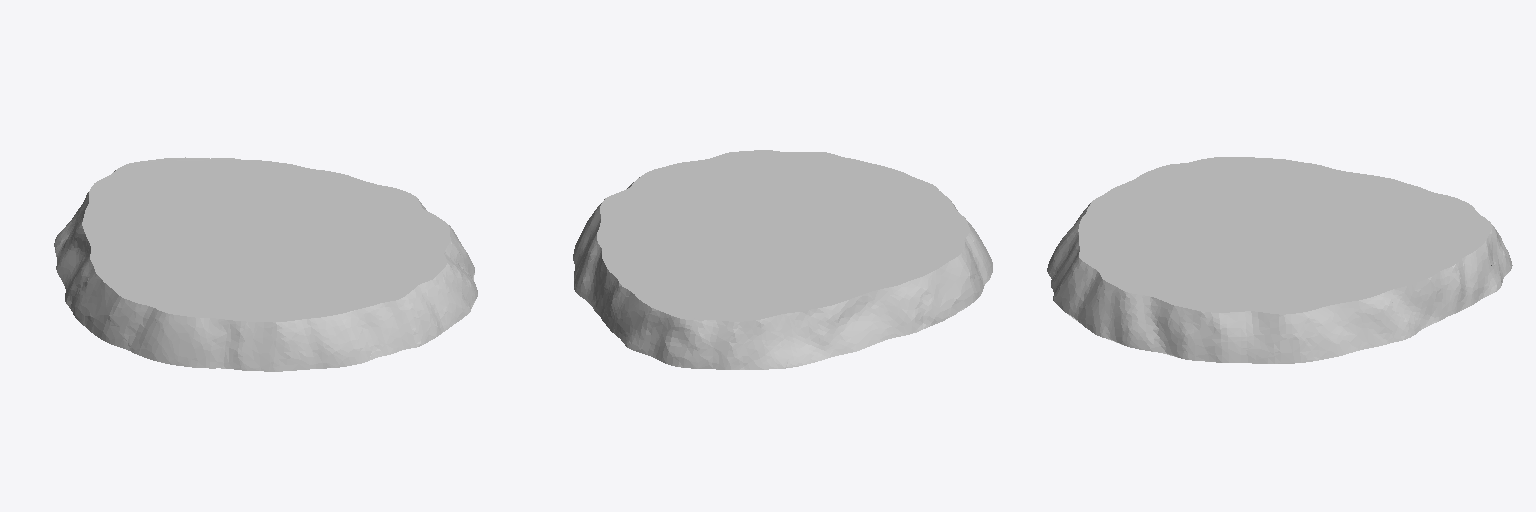
The picture shows the model from 3 angles: view 1: azimuth 30°, elevation 25°; view 2: azimuth 150°, elevation 25°; view 3: azimuth 270°, elevation 25°; orthographic projection.
Parts seen in each view (by area): view 1: low.010_Fotogrametria_MarioGomes_V01_Model_2.011; view 2: low.010_Fotogrametria_MarioGomes_V01_Model_2.011; view 3: low.010_Fotogrametria_MarioGomes_V01_Model_2.011.
Part boxes in pixels (left/top/right/bottom): low.010_Fotogrametria_MarioGomes_V01_Model_2.011: left=54, top=157, right=477, bottom=371; low.010_Fotogrametria_MarioGomes_V01_Model_2.011: left=573, top=150, right=992, bottom=369; low.010_Fotogrametria_MarioGomes_V01_Model_2.011: left=1047, top=157, right=1512, bottom=363.
Size of the model in its own units: 1.94 by 0.2013 by 2.15.